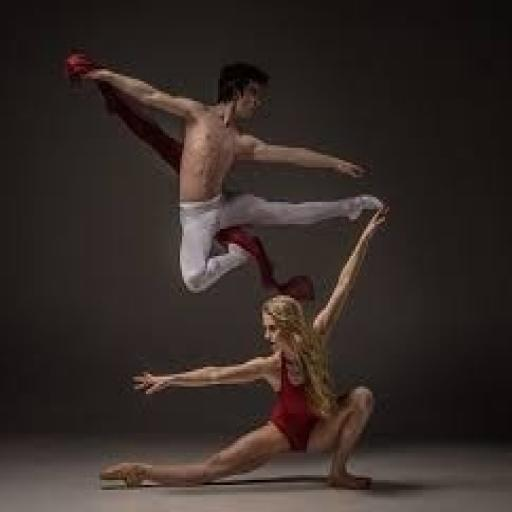dancing: (62, 46, 392, 308), (98, 202, 392, 495)
